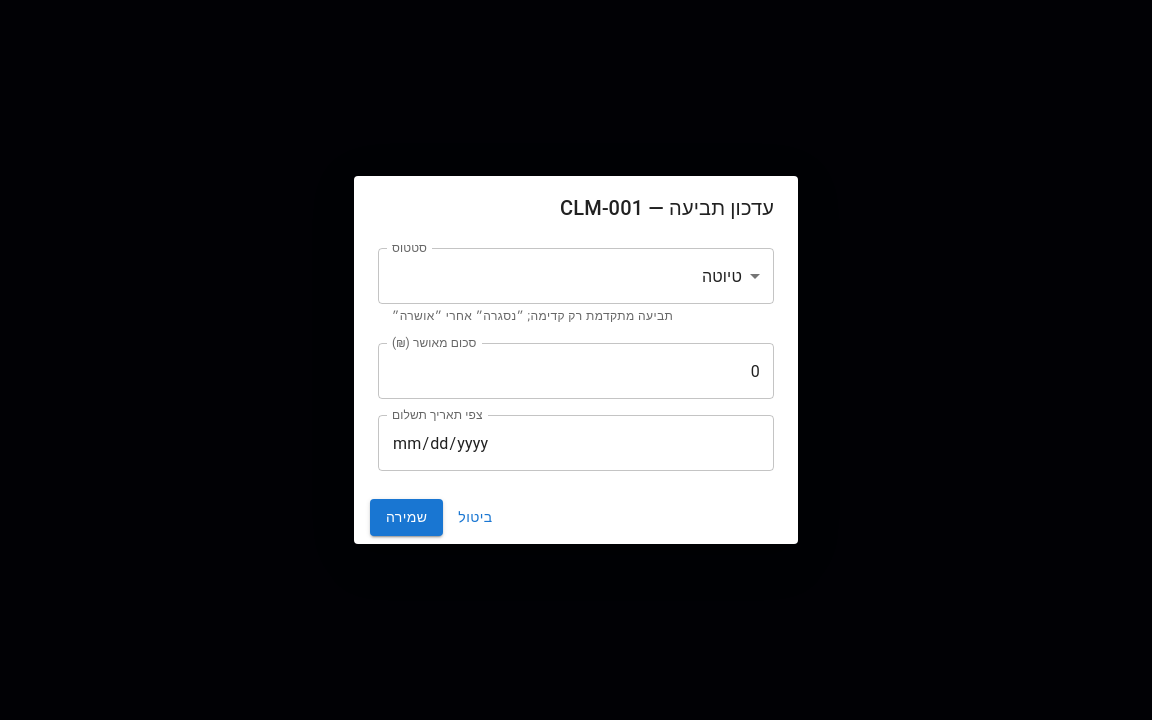
Test: ClaimUpdateDialog › shows the backend's reason and starts the next opening clean
This screenshot has width=1152, height=720.
Click the button "שמירה". click: click(407, 517)
box: 370,499 -> 443,536
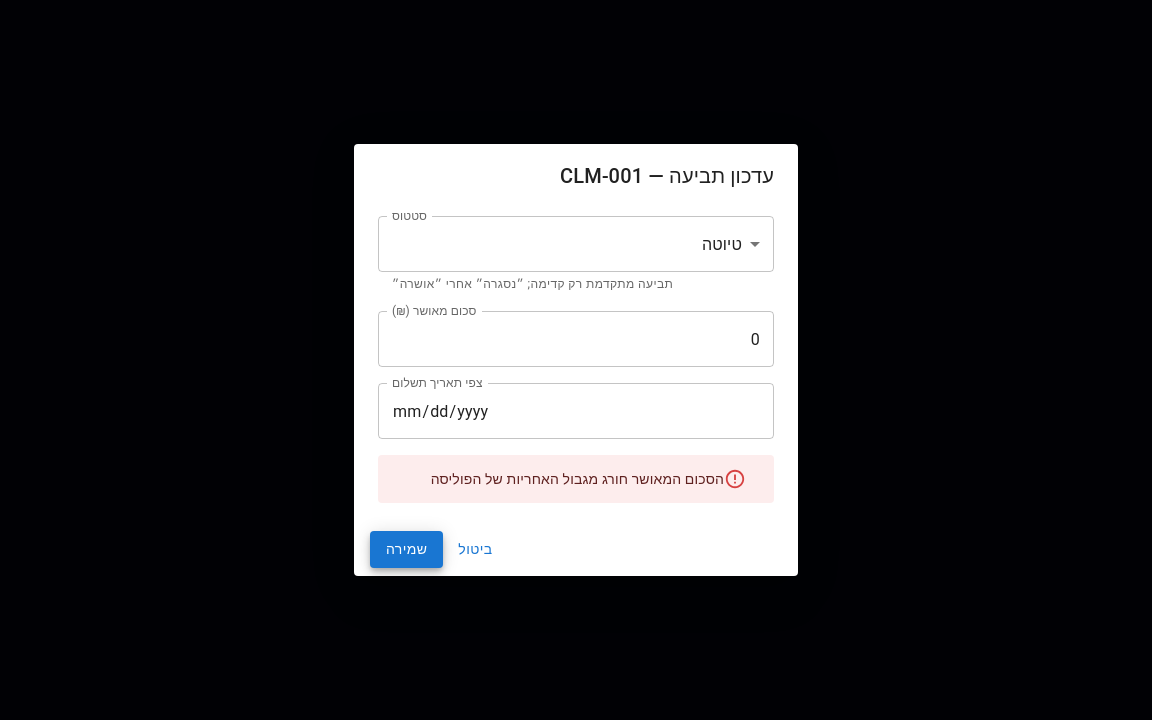
Expected: the text "הסכום המאושר חורג מגבול האחריות של הפוליסה" is shown, 431,471 -> 724,487
